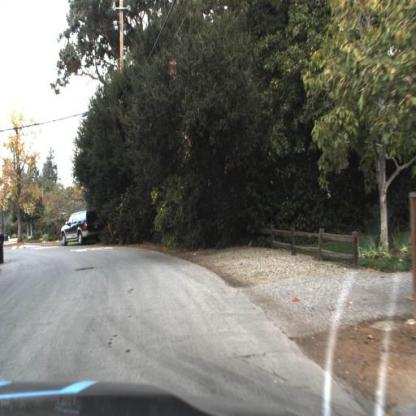car: (57, 202, 107, 250)
